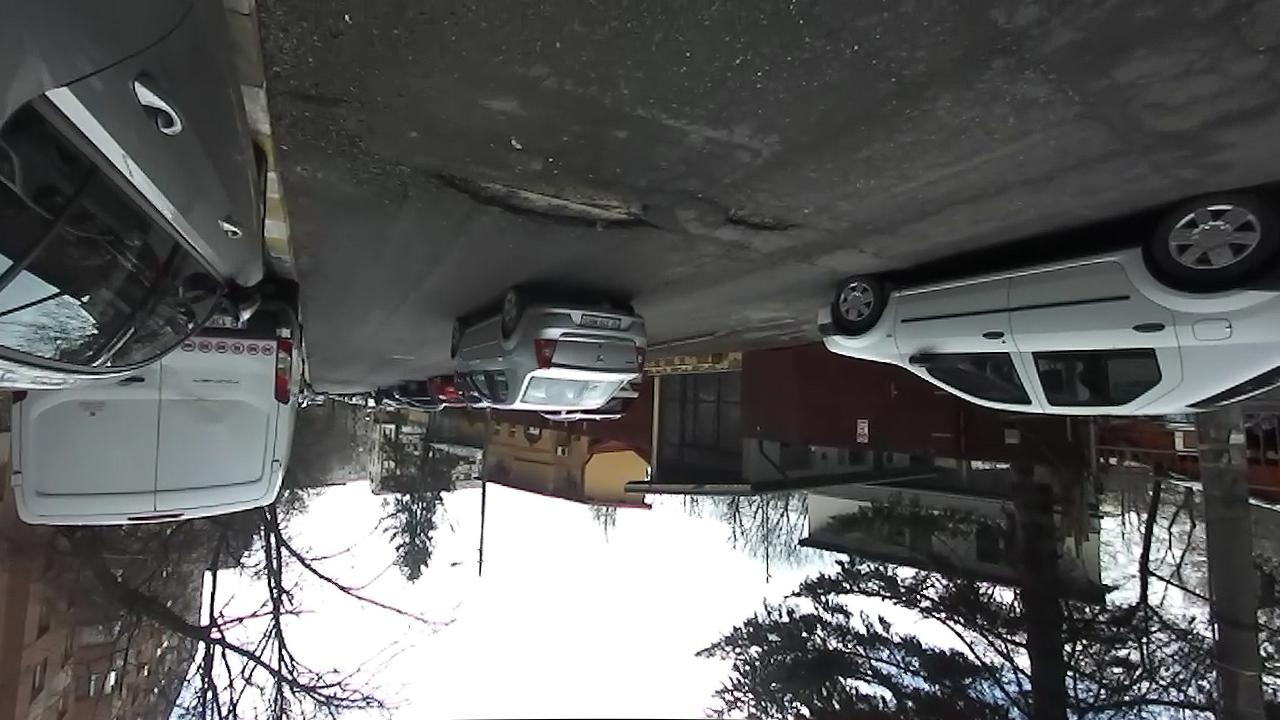pothole: (419, 161, 661, 236), (713, 197, 803, 236)
